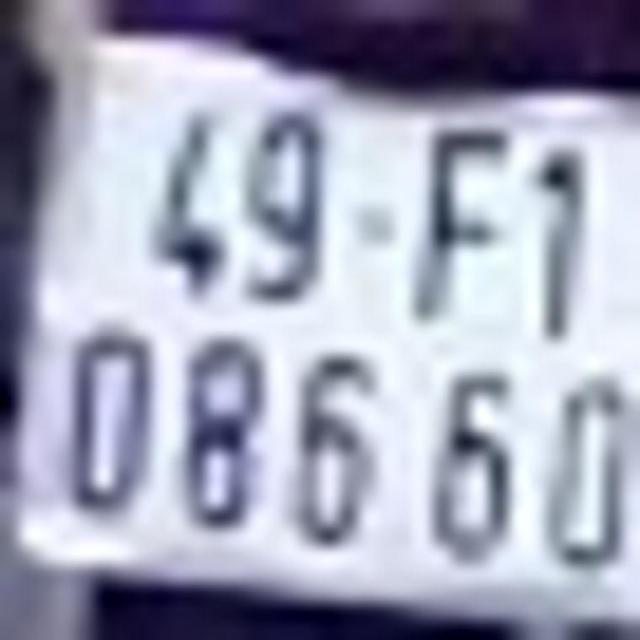0: (71, 328, 150, 515), (552, 377, 628, 569)
1: (531, 143, 585, 340)
4: (154, 110, 224, 292)
6: (430, 367, 510, 564), (296, 346, 371, 549)
8: (185, 336, 259, 525)
9: (243, 112, 324, 305)
F: (421, 130, 510, 341)
